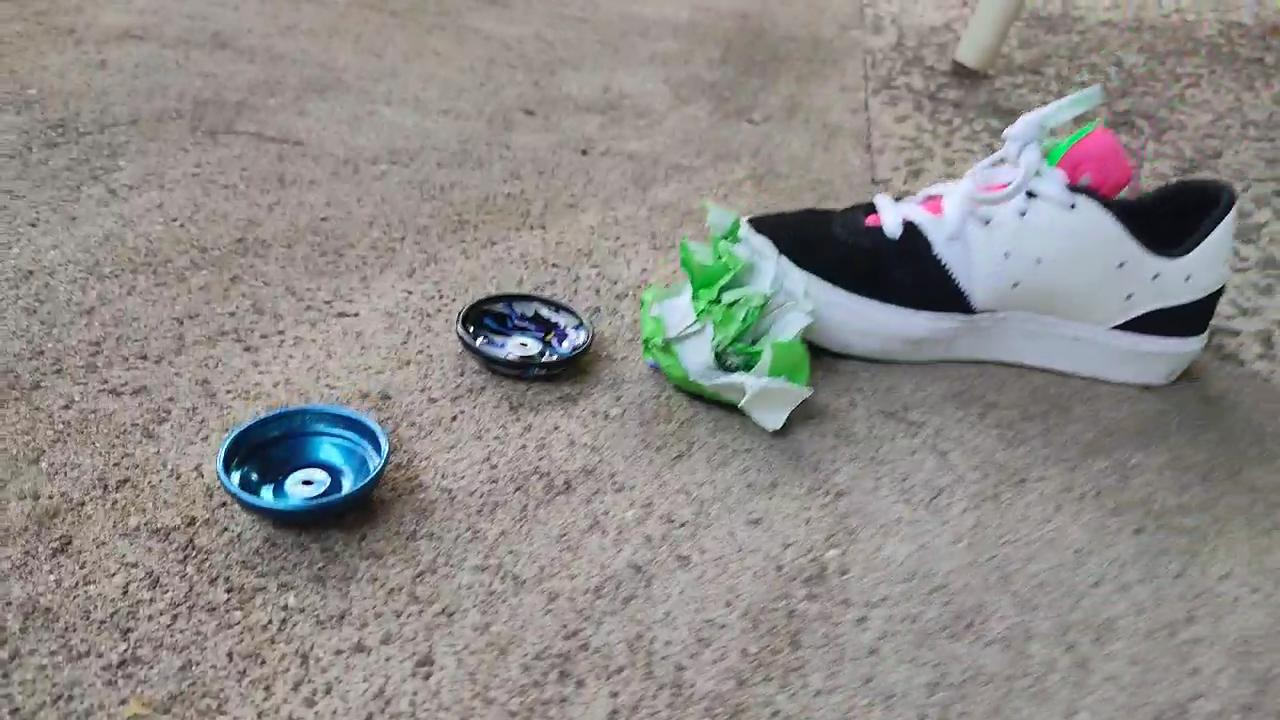Paper: (654, 205, 810, 438)
